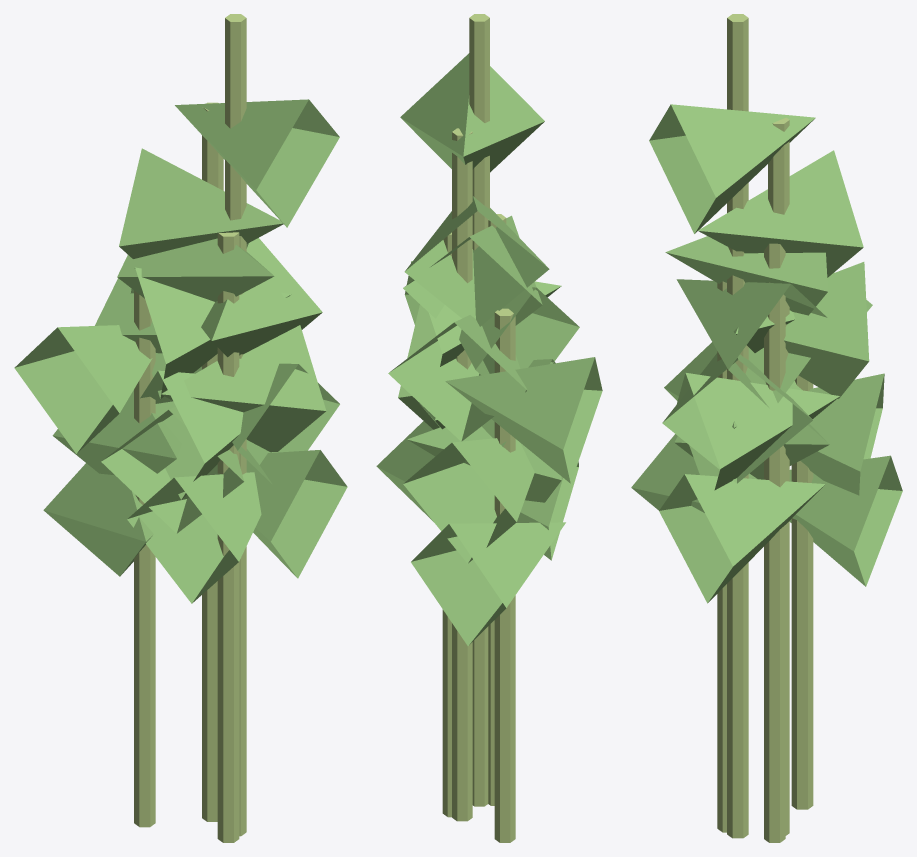
File: bamboo_cluster.glb
3 views of the same model, side by side, from view 1: azimuth 30°, elevation 25°; view 2: azimuth 150°, elevation 25°; view 3: azimuth 270°, elevation 25° (orthographic). The views are drawn at different scales.
Parts seen in each view (by area): view 1: Leaf_4_2, Leaf_1_2, Leaf_3_0, Leaf_0_2, Leaf_4_0, Leaf_2_0, Stalk_1, Stalk_3, Leaf_1_0, Leaf_3_2, Stalk_4, Leaf_4_1 (+7 smaller); view 2: Leaf_1_2, Leaf_1_0, Leaf_1_1, Leaf_4_2, Leaf_0_2, Stalk_1, Stalk_0, Stalk_4, Leaf_0_1, Leaf_2_2, Leaf_4_1, Leaf_0_0 (+6 smaller); view 3: Leaf_4_2, Leaf_2_0, Stalk_2, Leaf_0_2, Stalk_4, Leaf_2_1, Leaf_1_0, Leaf_0_1, Stalk_1, Leaf_3_2, Leaf_1_1, Leaf_4_1 (+7 smaller).
Part boxes in pixels (<box>): Leaf_4_2: <box>175,99,339,227</box>; Leaf_1_2: <box>14,325,152,453</box>; Leaf_3_0: <box>127,472,261,603</box>; Leaf_0_2: <box>119,148,284,258</box>; Leaf_4_0: <box>161,325,326,452</box>; Leaf_2_0: <box>246,450,347,578</box>; Stalk_1: <box>134,290,155,827</box>; Stalk_3: <box>217,232,239,842</box>; Leaf_1_0: <box>43,463,153,576</box>; Leaf_3_2: <box>201,238,322,357</box>; Stalk_4: <box>225,14,246,836</box>; Leaf_4_1: <box>117,238,274,301</box>; Leaf_1_2: <box>445,357,602,483</box>; Leaf_1_0: <box>411,522,565,645</box>; Leaf_1_1: <box>403,438,534,563</box>; Leaf_4_2: <box>400,53,544,172</box>; Leaf_0_2: <box>404,196,549,326</box>; Stalk_1: <box>494,308,515,842</box>; Stalk_0: <box>452,128,472,821</box>; Stalk_4: <box>469,14,489,806</box>; Leaf_0_1: <box>388,315,527,441</box>; Leaf_2_2: <box>459,287,579,378</box>; Leaf_4_1: <box>403,215,542,325</box>; Leaf_0_0: <box>407,426,561,502</box>; Leaf_4_2: <box>649,104,815,233</box>; Leaf_2_0: <box>659,474,825,603</box>; Stalk_2: <box>764,243,785,842</box>; Leaf_0_2: <box>698,150,863,277</box>; Stalk_4: <box>727,14,748,838</box>; Leaf_2_1: <box>677,372,839,490</box>; Leaf_1_0: <box>789,455,902,586</box>; Leaf_0_1: <box>784,262,869,398</box>; Stalk_1: <box>791,375,813,809</box>; Leaf_3_2: <box>676,279,827,407</box>; Leaf_1_1: <box>800,373,884,495</box>; Leaf_4_1: <box>665,236,827,315</box>.
Size of the model in its own units: 1.41 by 4.17 by 1.26.
